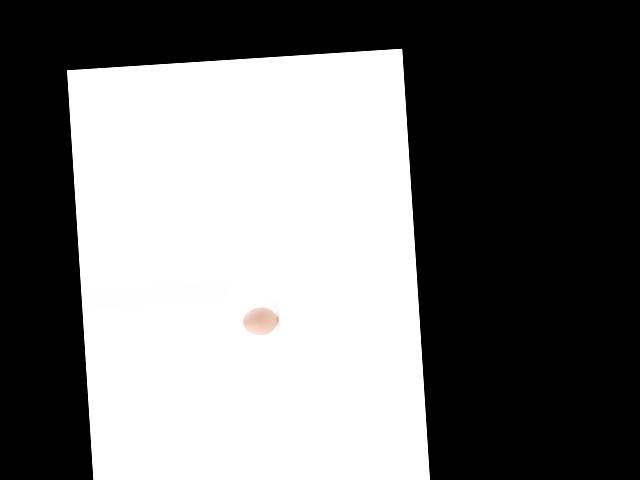egg: (242, 305, 278, 335)
